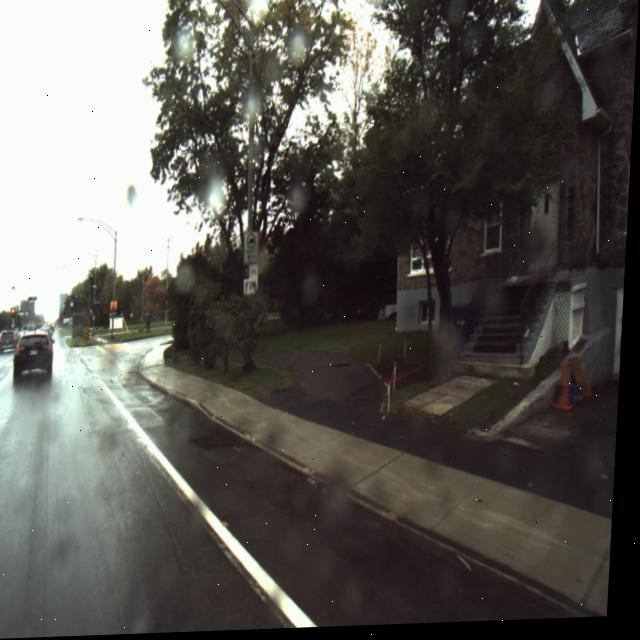car: (17, 330, 57, 385), (1, 329, 22, 357)
